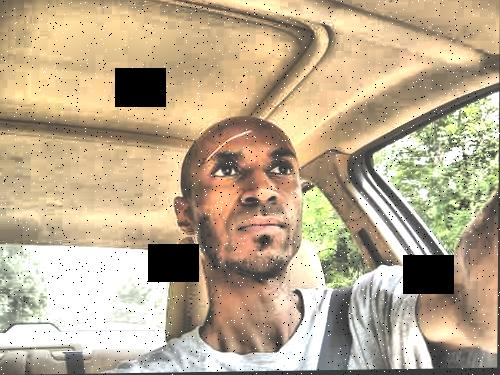seatbelt: (299, 284, 370, 367)
